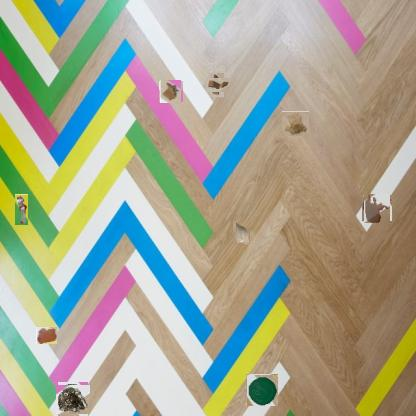dirty: (57, 383, 89, 415), (247, 374, 278, 406), (282, 111, 309, 137), (160, 80, 182, 103), (14, 194, 28, 225), (232, 220, 250, 244), (208, 75, 226, 95)
liquid: (363, 194, 391, 222), (36, 326, 57, 344)
